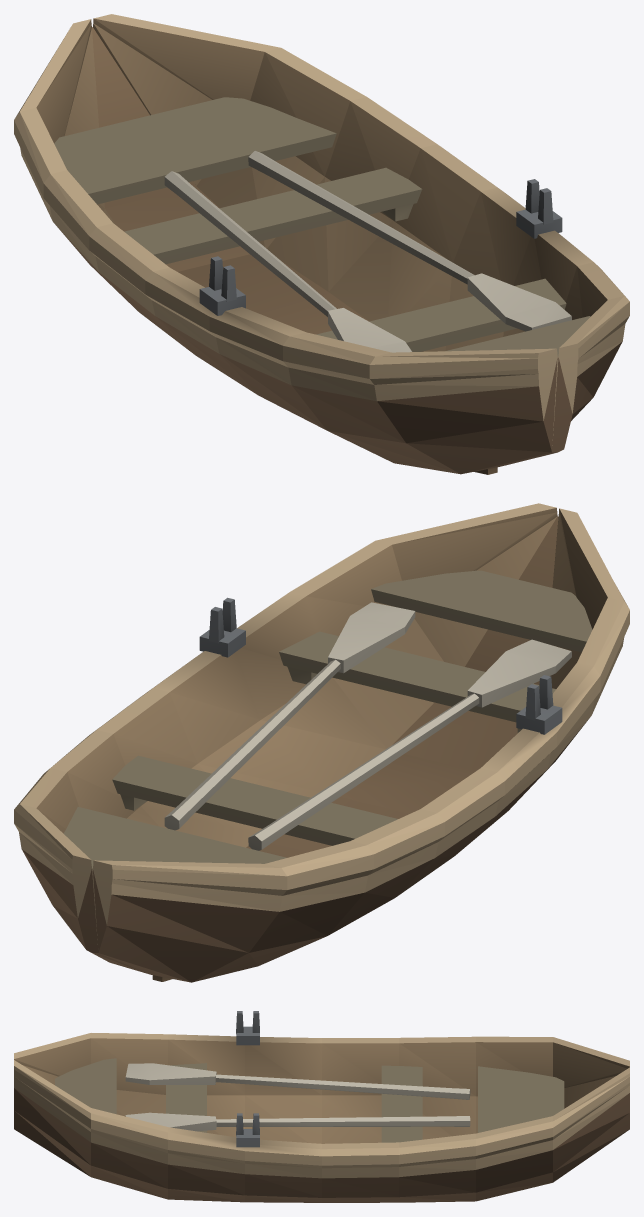
The model's file is rowboat.glb.
3 views of the same model, one above another, from view 1: azimuth 30°, elevation 25°; view 2: azimuth 150°, elevation 25°; view 3: azimuth 270°, elevation 25° (orthographic). The views are drawn at different scales.
Parts seen in each view (by area): view 1: rowboat.001; view 2: rowboat.001; view 3: rowboat.001.
Part boxes in pixels (box(x1,y1,x2,y2)): rowboat.001: box(14, 14, 629, 474); rowboat.001: box(14, 503, 629, 982); rowboat.001: box(14, 1011, 629, 1202).
Bounding box in the file's own units: 1.34 × 0.715 × 3.
